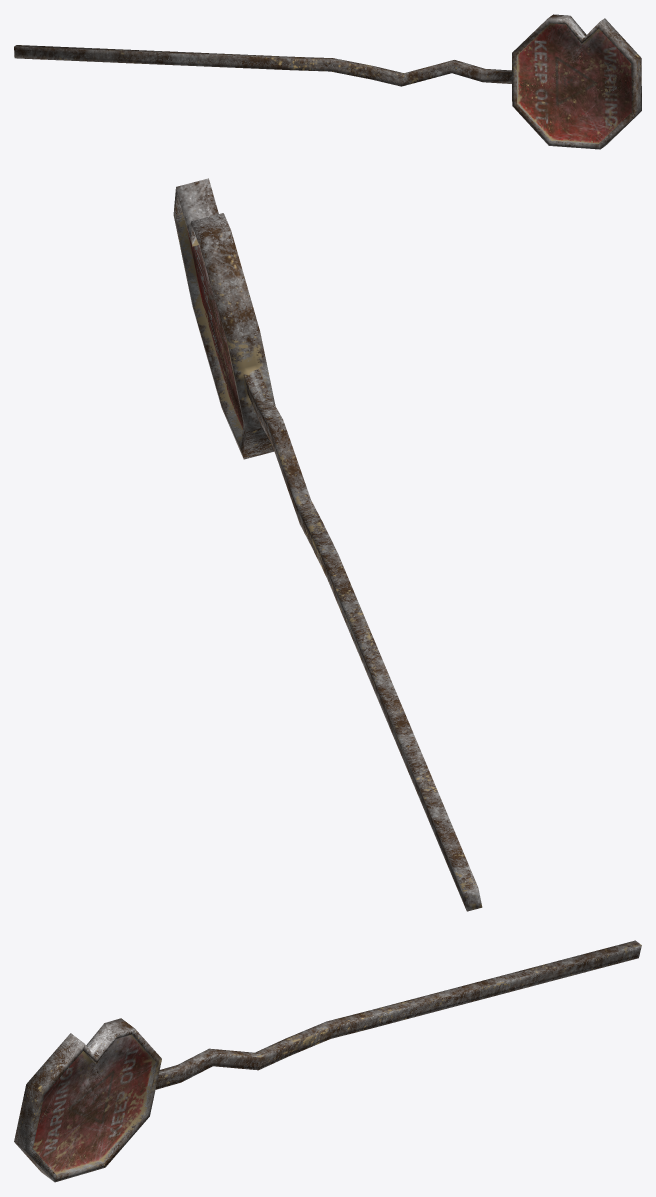
File: Anim_idle_senyal_objetos.0029.obj
3 renders of one model, top to bottom at view 1: azimuth 30°, elevation 25°; view 2: azimuth 150°, elevation 25°; view 3: azimuth 270°, elevation 25°, orthographic. The views are drawn at different scales.
Bounding box in the file's own units: 8.58 × 2.58 × 9.53.
